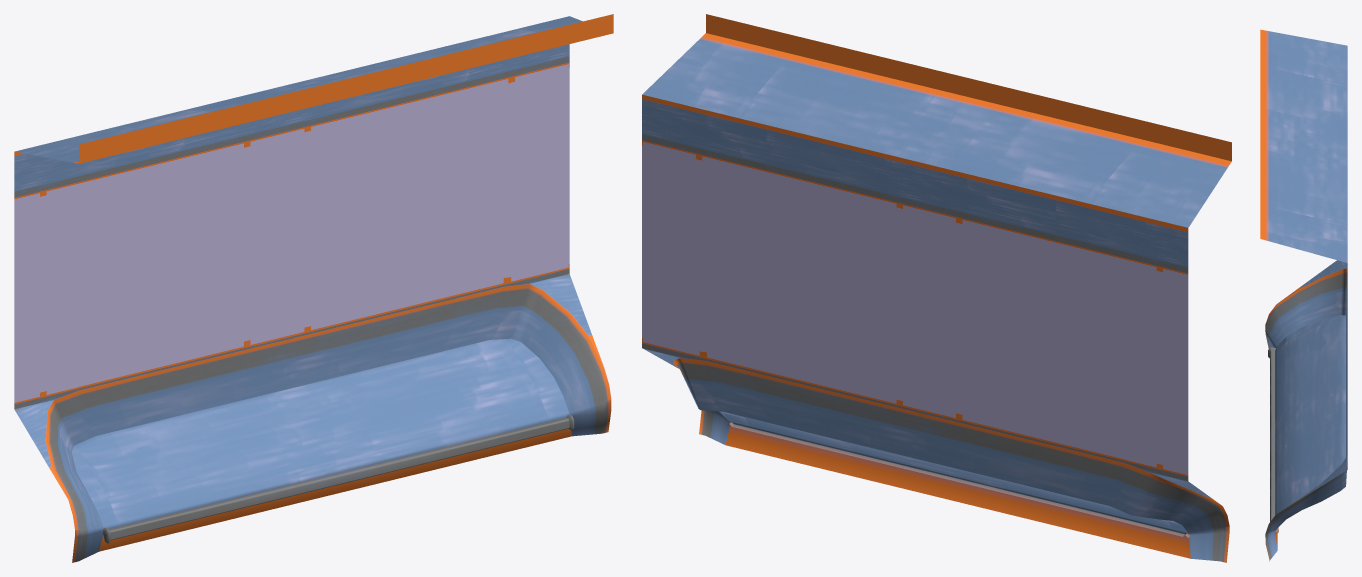
The model's file is wall.fbx.
3 renders of one model, left to right at view 1: azimuth 30°, elevation 25°; view 2: azimuth 150°, elevation 25°; view 3: azimuth 270°, elevation 25°, orthographic. The views are drawn at different scales.
Visible parts, largest first — view 1: wall; view 2: wall; view 3: wall.
Boxes of the visible parts, left/top/right/bottom form: wall: left=14, top=14, right=613, bottom=562; wall: left=642, top=14, right=1231, bottom=562; wall: left=1260, top=29, right=1347, bottom=561.
Bounding box in the file's own units: 600 × 437 × 102.
